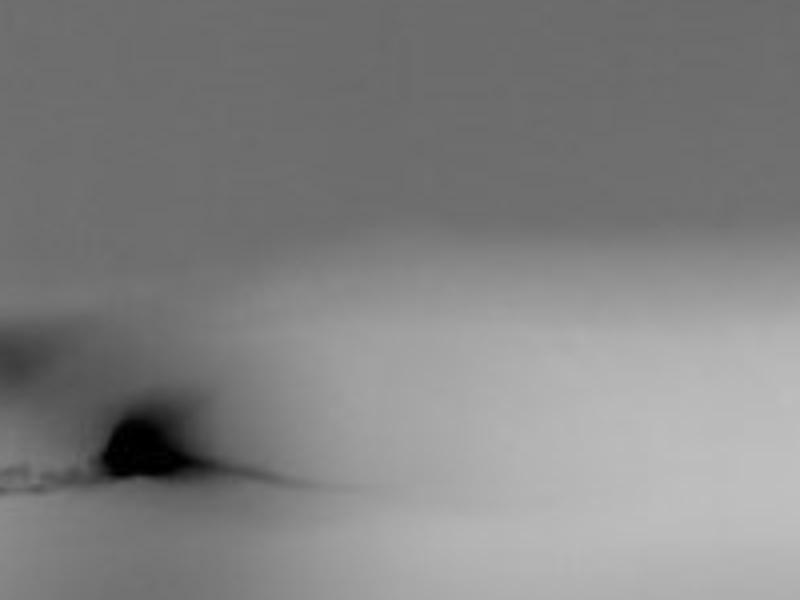defect: (101, 405, 196, 480)
